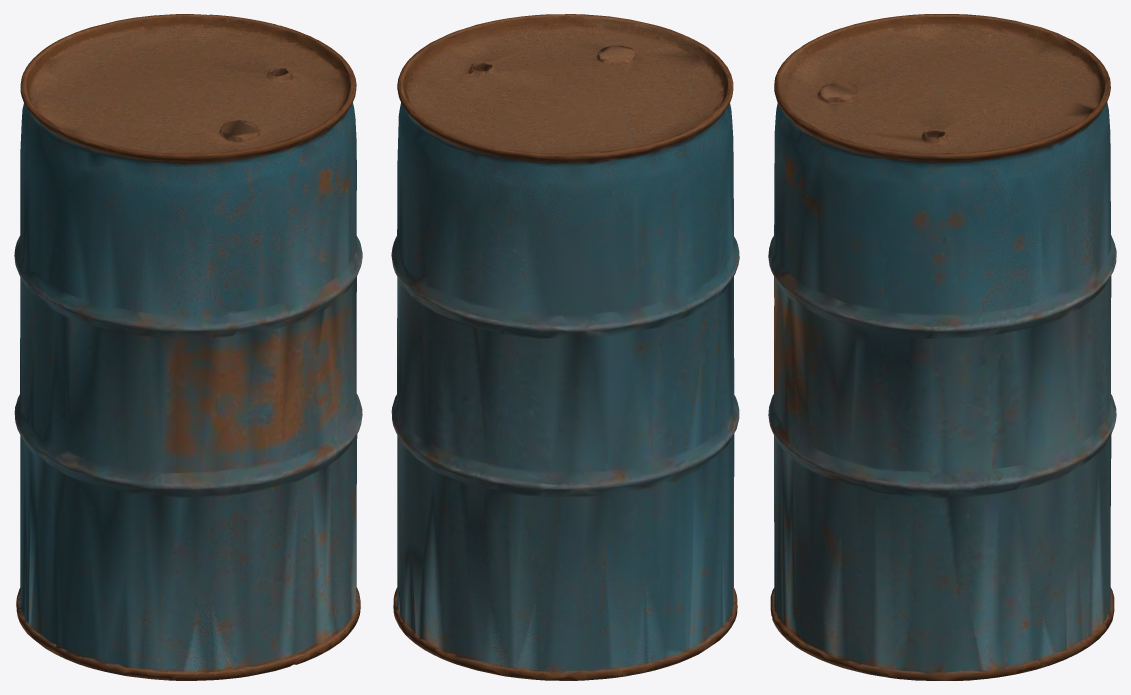
Rendered from fv_barrel.glb.
The picture shows the model from 3 angles, left to right: view 1: azimuth 30°, elevation 25°; view 2: azimuth 150°, elevation 25°; view 3: azimuth 270°, elevation 25°; orthographic projection.
Visible parts, largest first — view 1: fv_barrel; view 2: fv_barrel; view 3: fv_barrel.
Boxes of the visible parts, left/top/right/bottom form: fv_barrel: left=14, top=14, right=362, bottom=680; fv_barrel: left=391, top=14, right=739, bottom=680; fv_barrel: left=768, top=14, right=1116, bottom=680.
Bounding box in the file's own units: 0.541 × 0.9 × 0.5411.
Materials: 1 (1 with a texture image).
